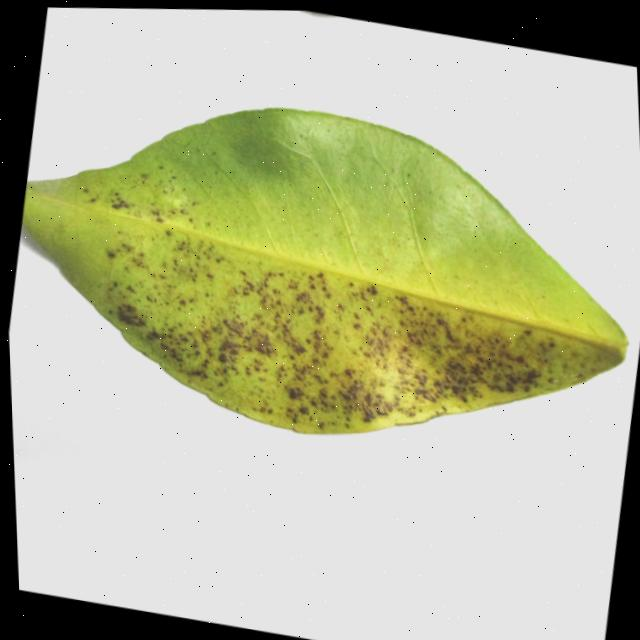melanose: (21, 107, 626, 432)
